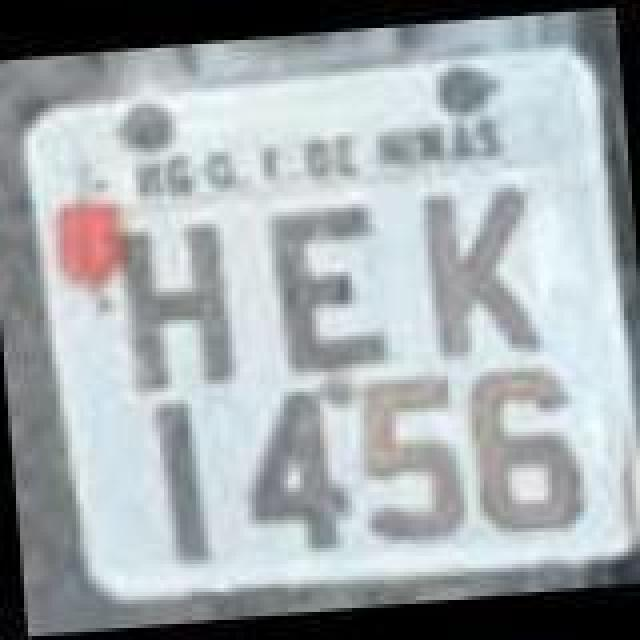1: (144, 392, 224, 568)
4: (234, 384, 358, 560)
5: (350, 370, 474, 542)
6: (464, 358, 592, 538)
E: (264, 200, 392, 376)
H: (112, 212, 240, 388)
K: (416, 182, 544, 362)
